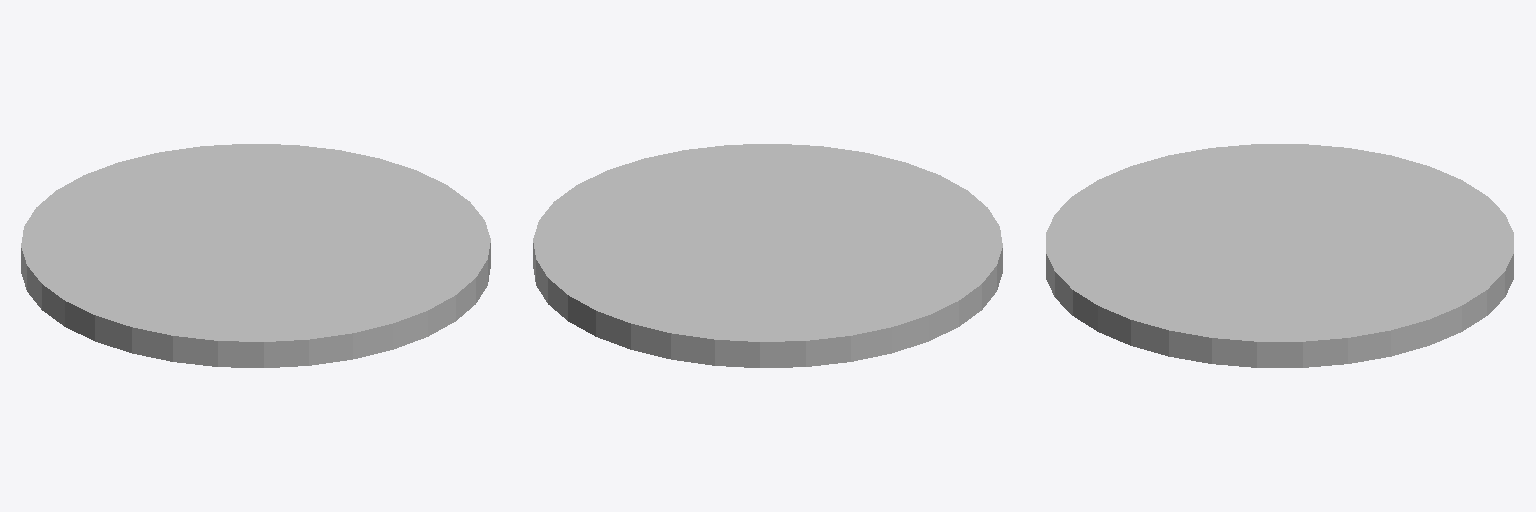
Rendered from homedecor_table_small_round.obj.
The picture shows the model from 3 angles: view 1: azimuth 30°, elevation 25°; view 2: azimuth 150°, elevation 25°; view 3: azimuth 270°, elevation 25°; orthographic projection.
Visible parts, largest first — view 1: Cylinder; view 2: Cylinder; view 3: Cylinder.
Part boxes in pixels (x1,y1,x2,y2): Cylinder: (21, 144, 490, 367); Cylinder: (533, 144, 1002, 367); Cylinder: (1046, 144, 1513, 367).
Bounding box in the file's own units: 0.9952 × 0.0615 × 0.9952.